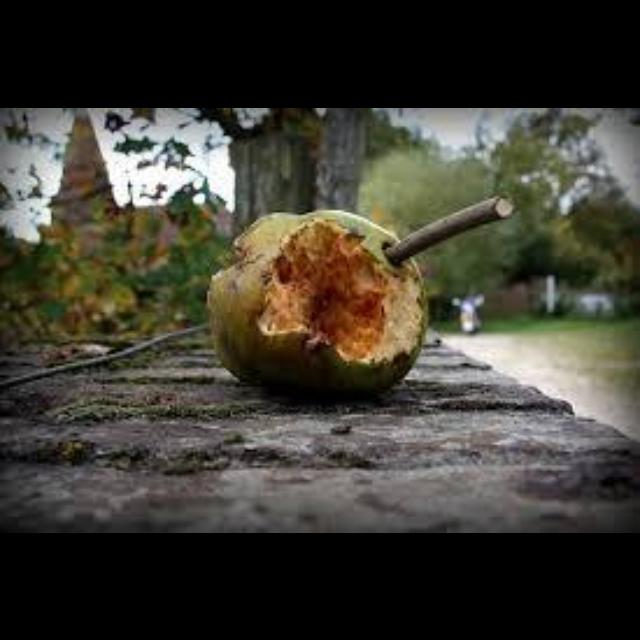apple: (207, 209, 426, 391)
rotten: (265, 230, 419, 364)
